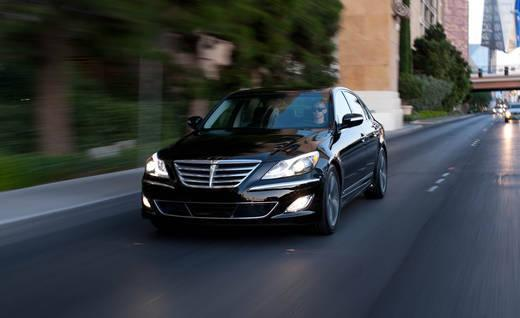car: (144, 85, 393, 238)
